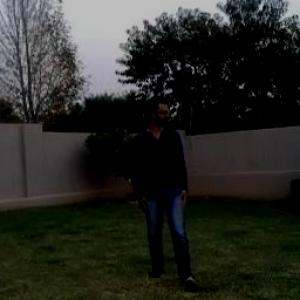follow: (134, 83, 191, 279)
